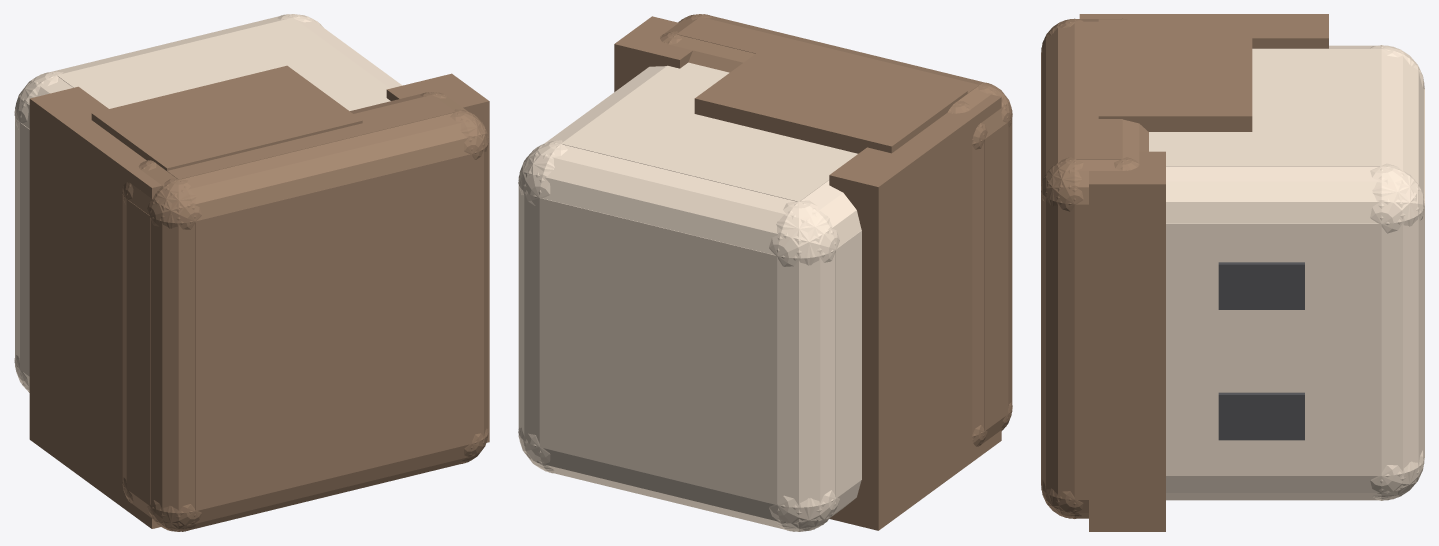
Rendered from head.glb.
3 renders of one model, left to right at view 1: azimuth 30°, elevation 25°; view 2: azimuth 150°, elevation 25°; view 3: azimuth 270°, elevation 25°, orthographic.
Parts seen in each view (by area): view 1: hair_top_z_visual, hair_back_visual, hair_side_left_visual, head_y_visual, hair_top_edge5_visual, hair_top_edge3_visual, hair_top_x_visual, hair_top_edge1_visual, hair_top_edge7_visual, hair_top_y_visual, hair_fringe_visual, head_x_visual (+7 smaller); view 2: head_z_visual, hair_back_visual, hair_side_left_visual, head_y_visual, head_edge4_visual, head_edge2_visual, hair_top_x_visual, head_x_visual, head_edge0_visual, head_edge6_visual, hair_top_edge4_visual, hair_top_y_visual (+9 smaller); view 3: head_x_visual, hair_fringe_visual, head_y_visual, hair_side_left_visual, head_edge11_visual, head_edge6_visual, hair_top_edge7_visual, head_edge2_visual, head_edge10_visual, hair_top_edge3_visual, hair_top_y_visual, hair_top_x_visual (+7 smaller).
Part boxes in pixels (x1=…): hair_top_z_visual: x1=195, y1=154, x2=472, y2=511; hair_back_visual: x1=29, y1=86, x2=161, y2=528; hair_side_left_visual: x1=91, y1=65, x2=362, y2=170; head_y_visual: x1=57, y1=17, x2=390, y2=110; hair_top_edge5_visual: x1=150, y1=178, x2=196, y2=531; hair_top_edge3_visual: x1=147, y1=111, x2=488, y2=228; hair_top_x_visual: x1=126, y1=199, x2=150, y2=505; hair_top_edge1_visual: x1=147, y1=429, x2=488, y2=531; hair_top_edge7_visual: x1=450, y1=109, x2=488, y2=463; hair_top_y_visual: x1=157, y1=95, x2=455, y2=179; hair_fringe_visual: x1=386, y1=73, x2=489, y2=442; head_x_visual: x1=20, y1=122, x2=29, y2=376; head_z_visual: x1=539, y1=198, x2=777, y2=505; hair_back_visual: x1=829, y1=94, x2=1001, y2=530; hair_side_left_visual: x1=694, y1=43, x2=967, y2=153; head_y_visual: x1=561, y1=62, x2=857, y2=201; head_edge4_visual: x1=776, y1=200, x2=835, y2=531; head_edge2_visual: x1=518, y1=142, x2=839, y2=265; hair_top_x_visual: x1=984, y1=122, x2=1008, y2=430; head_x_visual: x1=835, y1=230, x2=861, y2=498; head_edge0_visual: x1=518, y1=427, x2=839, y2=531; head_edge6_visual: x1=518, y1=140, x2=567, y2=472; hair_top_edge4_visual: x1=947, y1=101, x2=984, y2=444; hair_top_y_visual: x1=677, y1=17, x2=978, y2=93; head_x_visual: x1=1166, y1=223, x2=1381, y2=475; hair_fringe_visual: x1=1089, y1=151, x2=1165, y2=531; head_y_visual: x1=1149, y1=49, x2=1381, y2=166; hair_side_left_visual: x1=1098, y1=19, x2=1252, y2=131; head_edge11_visual: x1=1166, y1=166, x2=1424, y2=226; head_edge6_visual: x1=1370, y1=163, x2=1424, y2=500; hair_top_edge7_visual: x1=1041, y1=157, x2=1083, y2=518; head_edge2_visual: x1=1370, y1=45, x2=1424, y2=233; head_edge10_visual: x1=1166, y1=450, x2=1424, y2=500; hair_top_edge3_visual: x1=1041, y1=18, x2=1083, y2=211; hair_top_y_visual: x1=1074, y1=21, x2=1122, y2=159; hair_top_x_visual: x1=1074, y1=204, x2=1088, y2=499.
Size of the model in its own units: 0.425 by 0.416 by 0.4.
